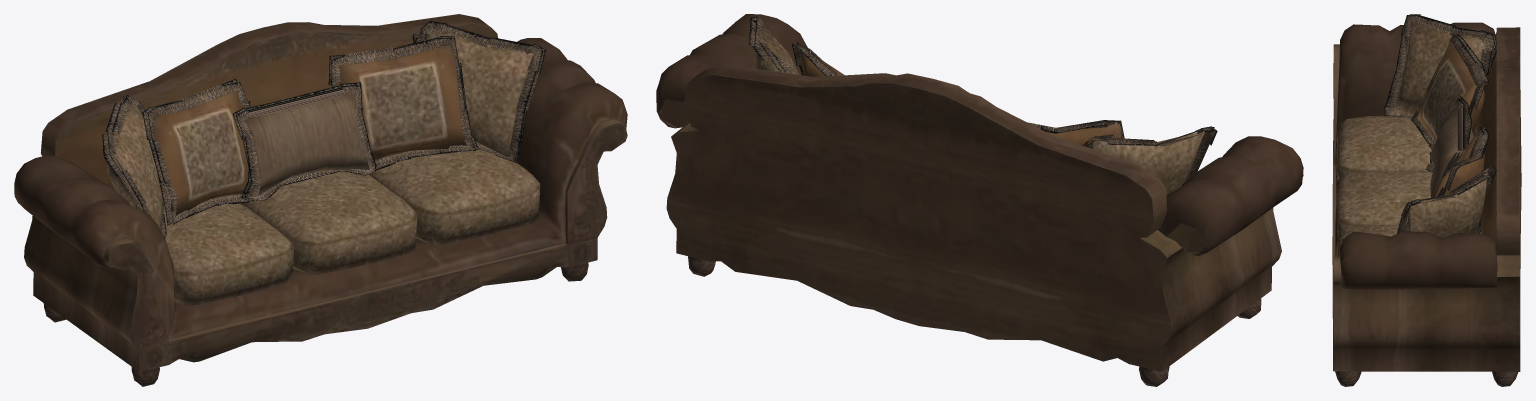
The model's file is sofa_03.glb.
3 renders of one model, left to right at view 1: azimuth 30°, elevation 25°; view 2: azimuth 150°, elevation 25°; view 3: azimuth 270°, elevation 25°, orthographic. The views are drawn at different scales.
Visible parts, largest first — view 1: sofa_03; view 2: sofa_03; view 3: sofa_03.
Part boxes in pixels (x1=…): sofa_03: x1=14, y1=14, x2=627, y2=386; sofa_03: x1=656, y1=14, x2=1303, y2=386; sofa_03: x1=1332, y1=14, x2=1521, y2=386.
Bounding box in the file's own units: 2.73 × 1.12 × 0.9235.
2 materials, 2 textured.
